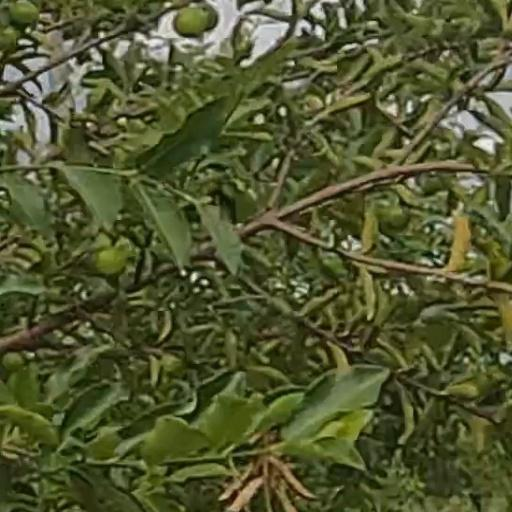acerola: (92, 249, 128, 273), (176, 10, 207, 35), (11, 3, 41, 23)
